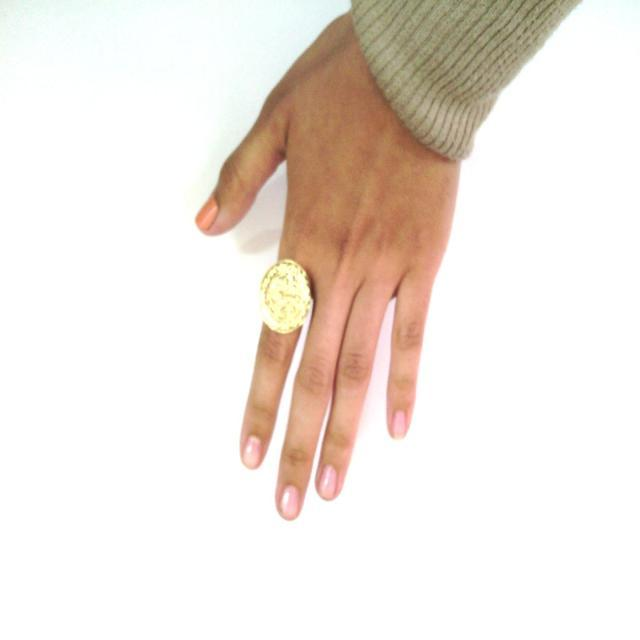Fingernail: (196, 198, 217, 228), (320, 464, 337, 499), (281, 486, 299, 518), (245, 437, 262, 467), (393, 411, 406, 439)
